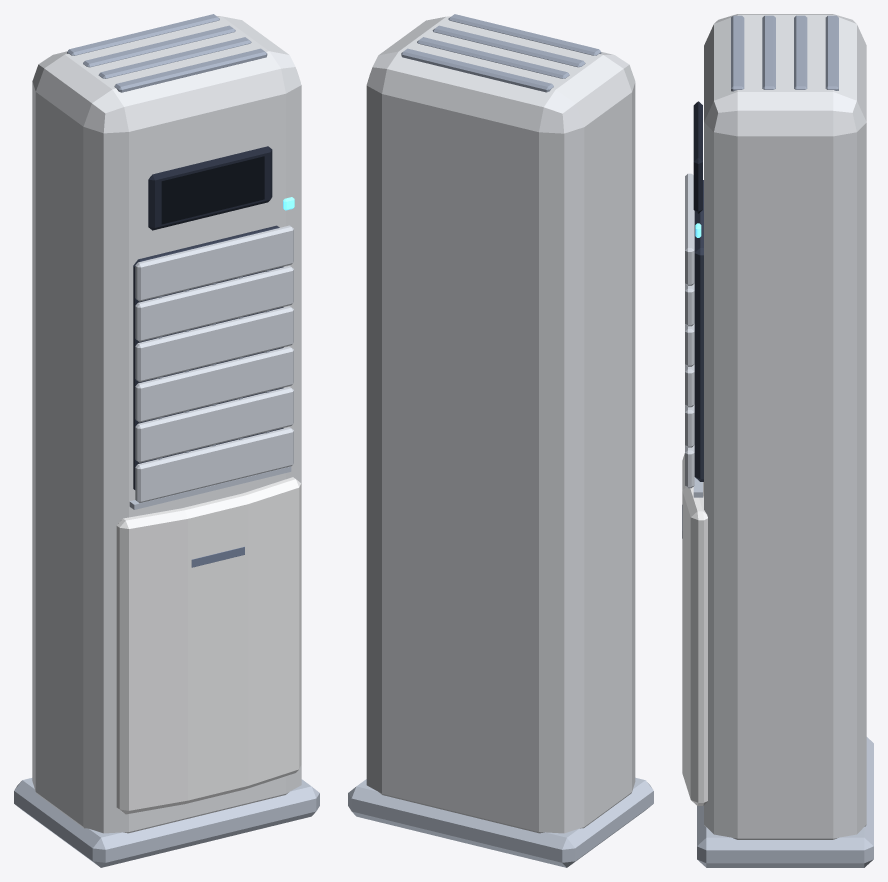
The model's file is CuteACTower.glb.
3 views of the same model, side by side, from view 1: azimuth 30°, elevation 25°; view 2: azimuth 150°, elevation 25°; view 3: azimuth 270°, elevation 25° (orthographic).
Parts seen in each view (by area): view 1: Body, FrontPanel, Base, Blade0, Blade3, Blade2, Blade5, Blade1, Blade4, Display, DisplayBezel, Outlet (+5 smaller); view 2: Body, Base, GrilleBar3, GrilleBar2, GrilleBar1, GrilleBar0; view 3: Body, FrontPanel, Base, Outlet, DisplayBezel, Blade0, GrilleBar0, GrilleBar3, GrilleBar1, GrilleBar2, Blade5, Blade1 (+3 smaller).
Part boxes in pixels (x1,y1,x2,y2): Body: (32, 16, 301, 833); FrontPanel: (116, 477, 301, 814); Base: (14, 778, 319, 867); Blade0: (135, 225, 293, 301); Blade3: (135, 346, 293, 422); Blade2: (135, 306, 293, 382); Blade5: (135, 427, 293, 503); Blade1: (135, 266, 293, 341); Blade4: (135, 387, 293, 462); Display: (161, 156, 264, 224); DisplayBezel: (148, 146, 272, 230); Outlet: (133, 225, 283, 489); Body: (366, 16, 635, 833); Base: (348, 777, 653, 867); GrilleBar3: (401, 48, 553, 92); GrilleBar2: (417, 37, 569, 78); GrilleBar1: (432, 25, 585, 67); GrilleBar0: (448, 14, 601, 55); Body: (704, 14, 866, 839); FrontPanel: (682, 453, 707, 805); Base: (697, 737, 873, 867); Outlet: (694, 180, 703, 481); DisplayBezel: (693, 101, 702, 213); Blade0: (685, 173, 694, 285); GrilleBar0: (731, 15, 744, 91); GrilleBar3: (825, 15, 838, 90); GrilleBar1: (762, 15, 775, 89); GrilleBar2: (794, 15, 807, 89); Blade5: (685, 445, 694, 488); Blade1: (685, 283, 694, 326).
Size of the model in its own units: 0.55 by 1.77 by 0.401.
